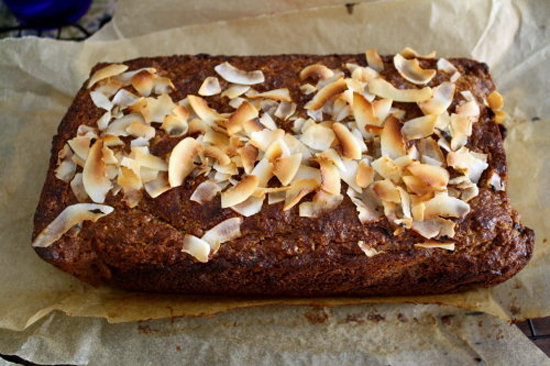slice of bread: (36, 48, 536, 292)
